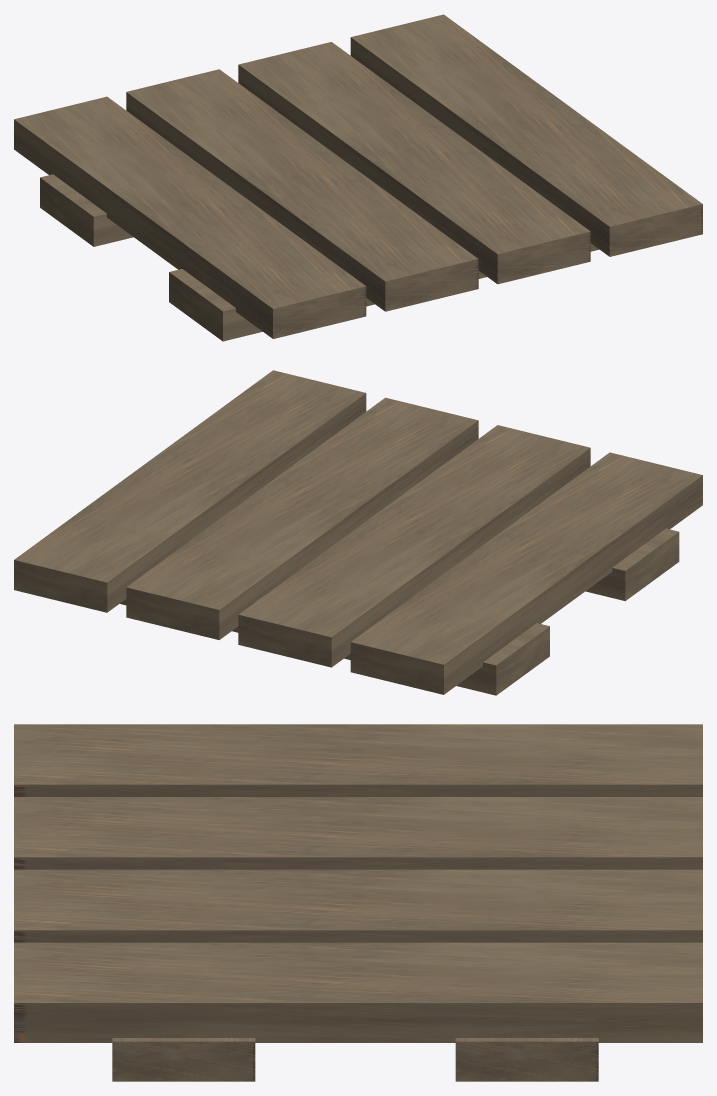
The model's file is wooden_planks.obj.
3 views of the same model, one above another, from view 1: azimuth 30°, elevation 25°; view 2: azimuth 150°, elevation 25°; view 3: azimuth 270°, elevation 25° (orthographic). The views are drawn at different scales.
Visible parts, largest first — view 1: Cube.013_Cube.012, Cube.014_Cube.013, Cube.015_Cube.014, Cube.011, Cube.016_Cube.015, Cube.017_Cube.016; view 2: Cube.013_Cube.012, Cube.011, Cube.015_Cube.014, Cube.014_Cube.013, Cube.017_Cube.016, Cube.016_Cube.015; view 3: Cube.015_Cube.014, Cube.014_Cube.013, Cube.011, Cube.013_Cube.012, Cube.016_Cube.015, Cube.017_Cube.016.
Part boxes in pixels (<box>): Cube.013_Cube.012: <box>14,96,366,338</box>; Cube.014_Cube.013: <box>238,42,590,284</box>; Cube.015_Cube.014: <box>350,14,702,256</box>; Cube.011: <box>126,69,478,311</box>; Cube.016_Cube.015: <box>169,243,599,341</box>; Cube.017_Cube.016: <box>40,174,133,246</box>; Cube.013_Cube.012: <box>350,452,702,694</box>; Cube.011: <box>238,425,590,667</box>; Cube.015_Cube.014: <box>14,370,366,612</box>; Cube.014_Cube.013: <box>126,397,478,639</box>; Cube.017_Cube.016: <box>120,599,549,695</box>; Cube.016_Cube.015: <box>585,528,679,601</box>; Cube.015_Cube.014: <box>14,942,702,1042</box>; Cube.014_Cube.013: <box>14,869,702,942</box>; Cube.011: <box>14,797,702,869</box>; Cube.013_Cube.012: <box>14,724,702,796</box>; Cube.016_Cube.015: <box>112,1038,255,1081</box>; Cube.017_Cube.016: <box>455,1038,598,1081</box>.
Bounding box in the file's own units: 2 × 0.2402 × 2.
Materials: 6 (6 with a texture image).
